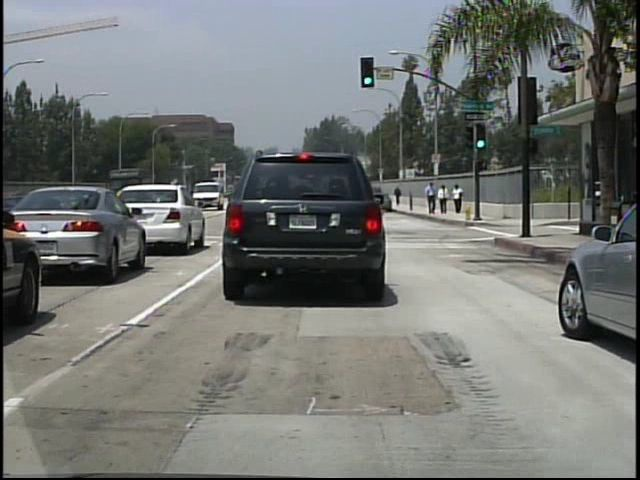person: (426, 180, 439, 216), (452, 183, 465, 216), (439, 183, 452, 215), (393, 185, 403, 207)
